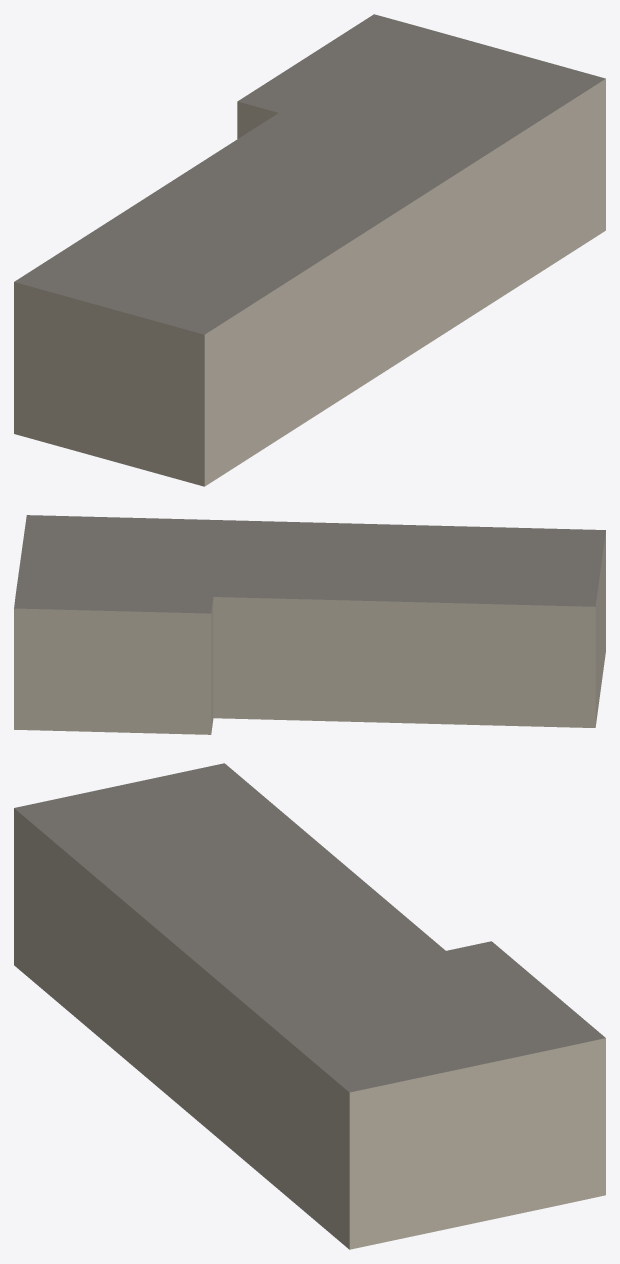
The picture shows the model from 3 angles, top to bottom: view 1: azimuth 30°, elevation 25°; view 2: azimuth 150°, elevation 25°; view 3: azimuth 270°, elevation 25°; orthographic projection. The views are drawn at different scales.
Parts seen in each view (by area): view 1: HP-w1201856101; view 2: HP-w1201856101; view 3: HP-w1201856101.
Part boxes in pixels (x1,y1,x2,y2): HP-w1201856101: (14, 14, 605, 486); HP-w1201856101: (14, 515, 605, 734); HP-w1201856101: (14, 763, 605, 1249).
Size of the model in its own units: 53.9 by 12 by 40.95.
